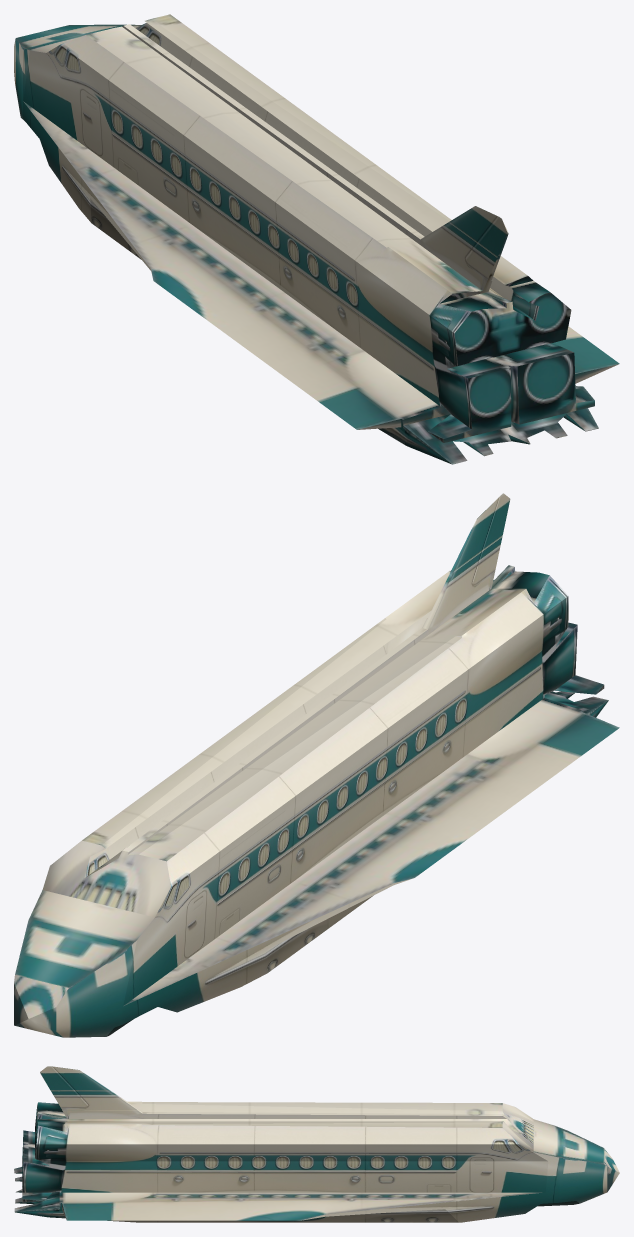
Rendered from passenger_shuttle.glb.
3 renders of one model, top to bottom at view 1: azimuth 30°, elevation 25°; view 2: azimuth 150°, elevation 25°; view 3: azimuth 270°, elevation 25°, orthographic. The views are drawn at different scales.
Parts seen in each view (by area): view 1: passenger_shuttle; view 2: passenger_shuttle; view 3: passenger_shuttle.
Part boxes in pixels (x1=…): passenger_shuttle: x1=14, y1=14, x2=619, y2=464; passenger_shuttle: x1=14, y1=493, x2=619, y2=1037; passenger_shuttle: x1=14, y1=1066, x2=619, y2=1222.
Size of the model in its own units: 9.15 by 7.43 by 29.97.
2 materials, 1 textured.
